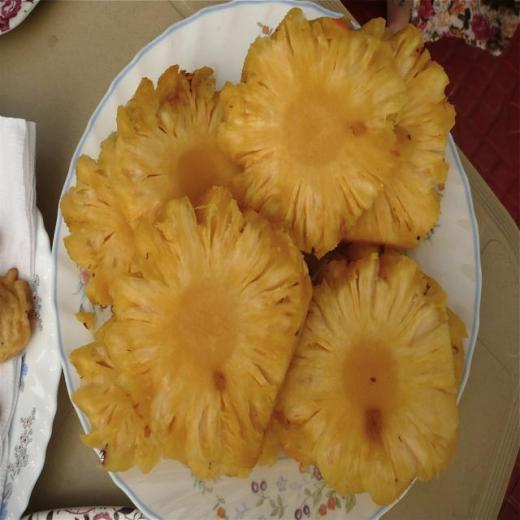Mango: (59, 7, 470, 506)
